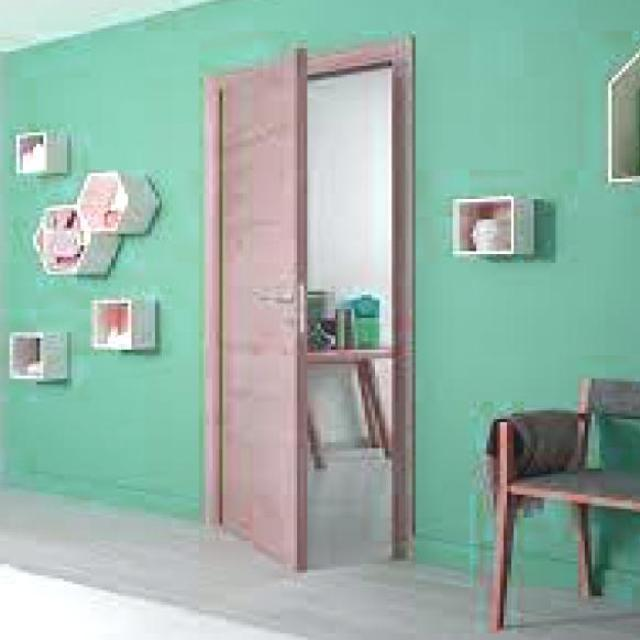door: (215, 48, 316, 580)
